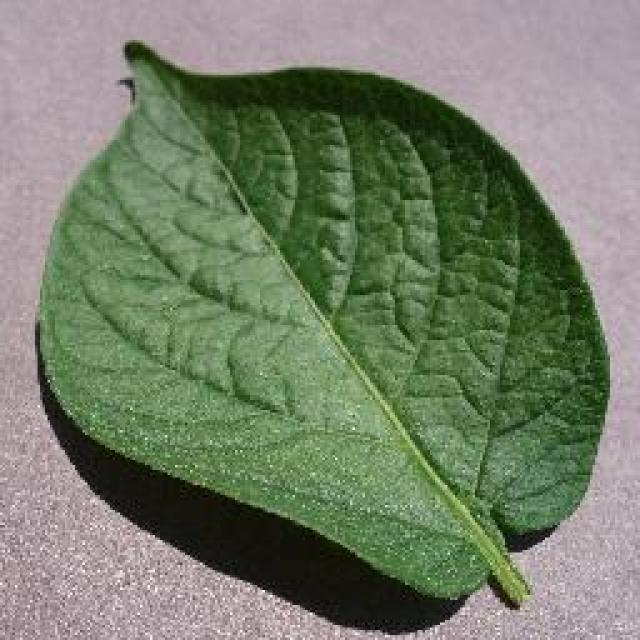healthy: (33, 35, 615, 613)
